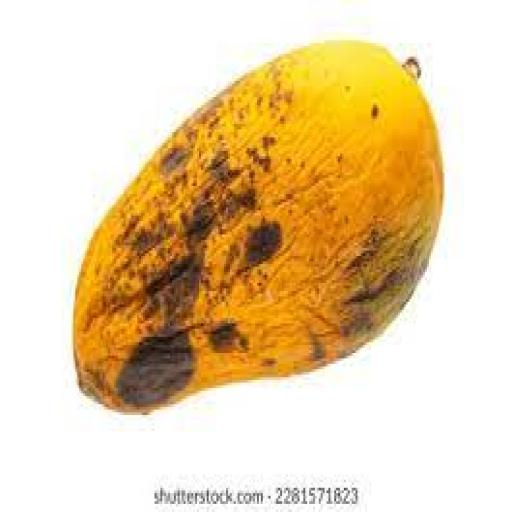mango-overripe: (49, 20, 464, 441)
